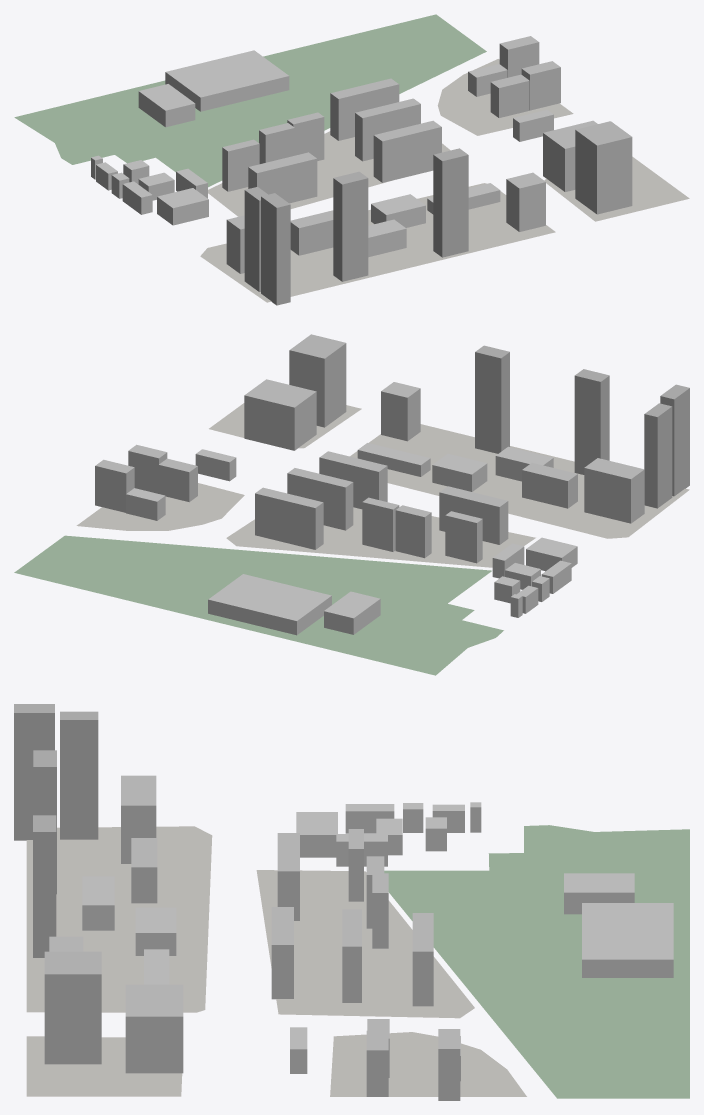
Rendered from 116_82_mid.glb.
3 views of the same model, one above another, from view 1: azimuth 30°, elevation 25°; view 2: azimuth 150°, elevation 25°; view 3: azimuth 270°, elevation 25° (orthographic). The views are drawn at different scales.
Bounding box in the file's own units: 495 × 107 × 510.
